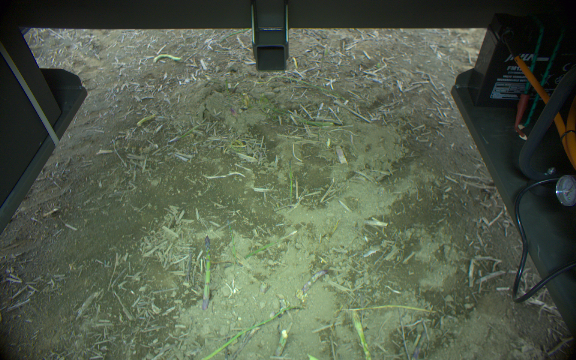aspa: (199, 233, 217, 311), (349, 309, 373, 360), (272, 328, 290, 359)
